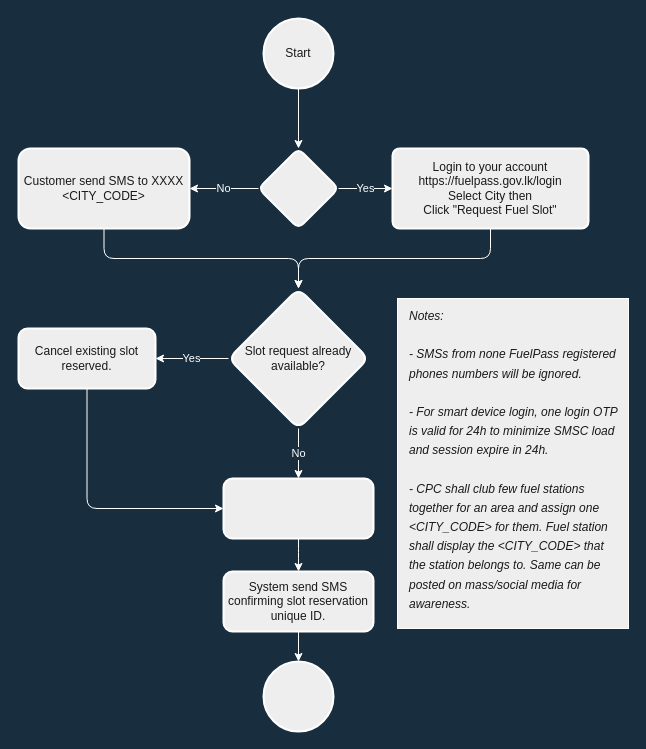
This 646x749 diagram has some shape labels left out. Each missing label, with the centre of its shape:
End: [298,696]
Reserve an available slot for the city requested.: [298,508]
Smart Device?: [298,188]
